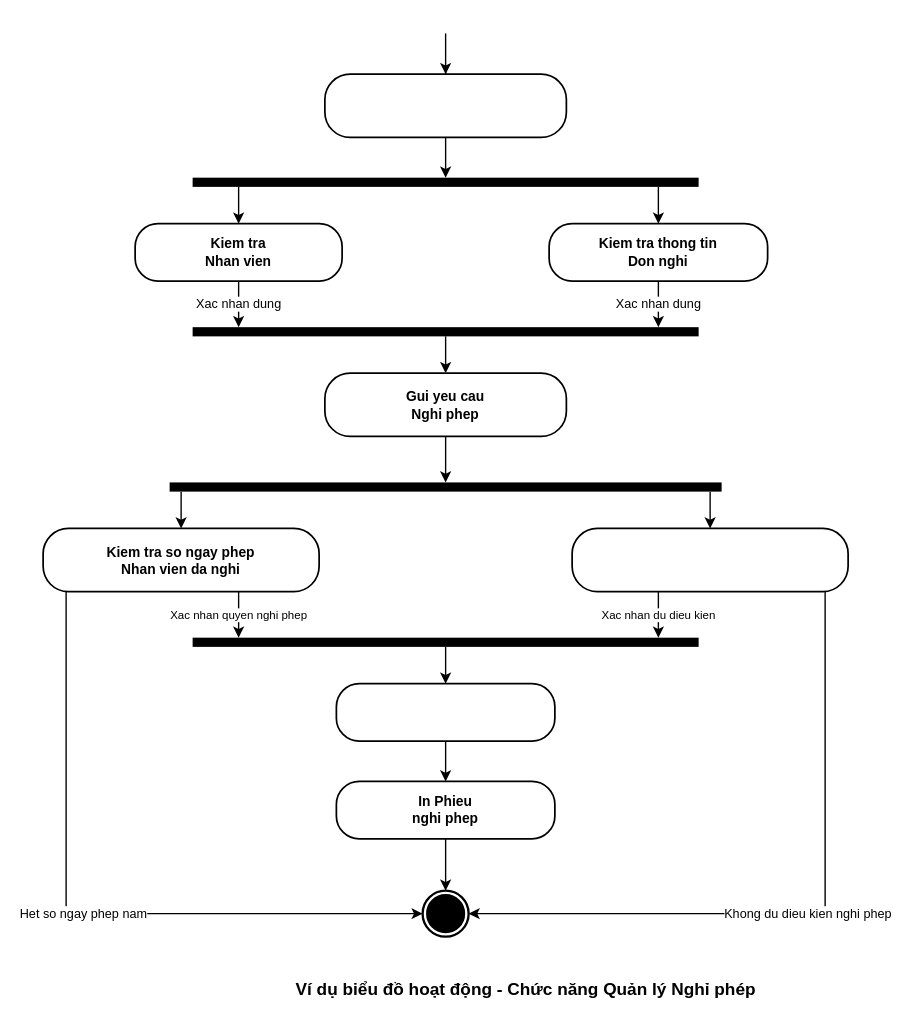
Image size: 912x1026. Some labels were removed from this diagram. Each missing label, with the centre of its shape:
"Kiem tra quyen han va lich cong tac" goes at pixel 709 559.
"Nhan thong tin Don nghi phep" goes at pixel 445 105.
"Xac nhan cho nghi phep" goes at pixel 445 712.
